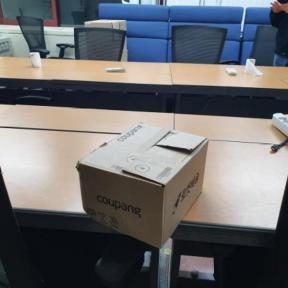box: (76, 120, 210, 254)
